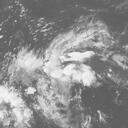cyclone: (17, 37, 98, 98)
